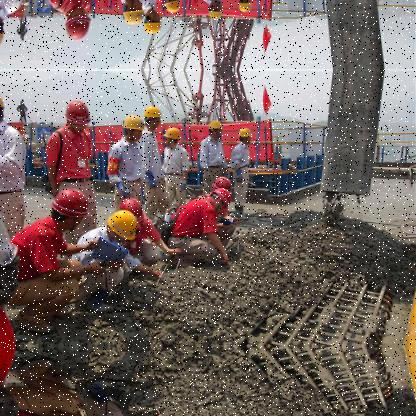helmet: (49, 183, 92, 229), (105, 204, 140, 245), (63, 97, 92, 132), (63, 5, 92, 40), (123, 111, 146, 139), (123, 0, 147, 26), (143, 102, 165, 129), (143, 8, 165, 35), (121, 194, 145, 218), (211, 172, 236, 193), (213, 183, 235, 205), (235, 123, 256, 145), (162, 124, 181, 147), (207, 115, 225, 139), (206, 0, 225, 22), (235, 0, 257, 14), (162, 0, 182, 13)
